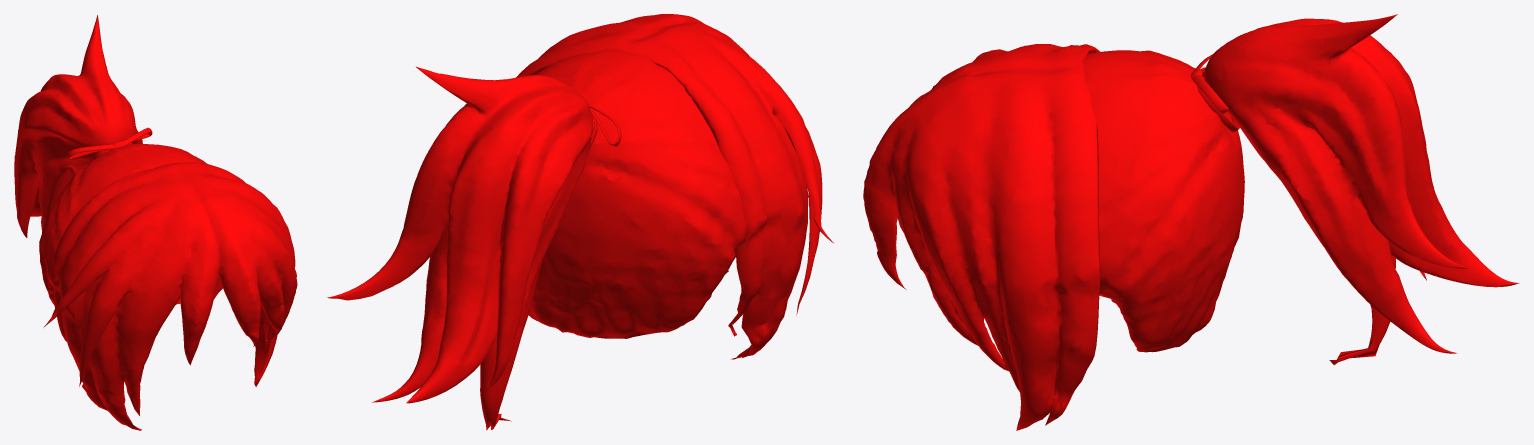
The model's file is culturalibre_hair_13_F.glb.
The picture shows the model from 3 angles, left to right: view 1: azimuth 30°, elevation 25°; view 2: azimuth 150°, elevation 25°; view 3: azimuth 270°, elevation 25°; orthographic projection. The views are drawn at different scales.
Size of the model in its own units: 0.2462 by 0.2806 by 0.4012.
1 material, 1 textured.
